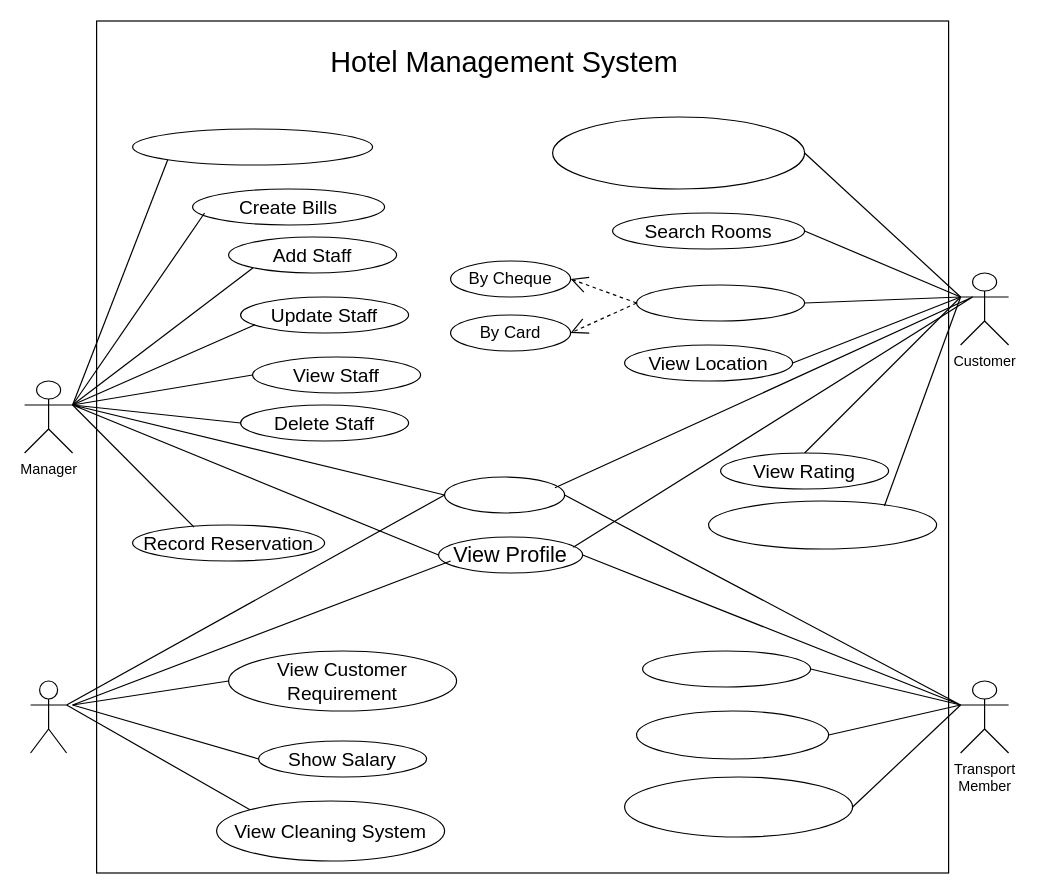
Image size: 1037x894. Some labels were removed from this diagram. The centre of each missing label's shape, as x and y in pixels:
Add Location: (726,668)
Add Payment: (720,302)
Login: (504,494)
Make Reservation: (252,146)
Staff: (48,716)
View Check-in Check-out Status: (678,152)
View Customer Id: (732,734)
View Customer Location: (738,806)
View Food Facality: (822,524)
